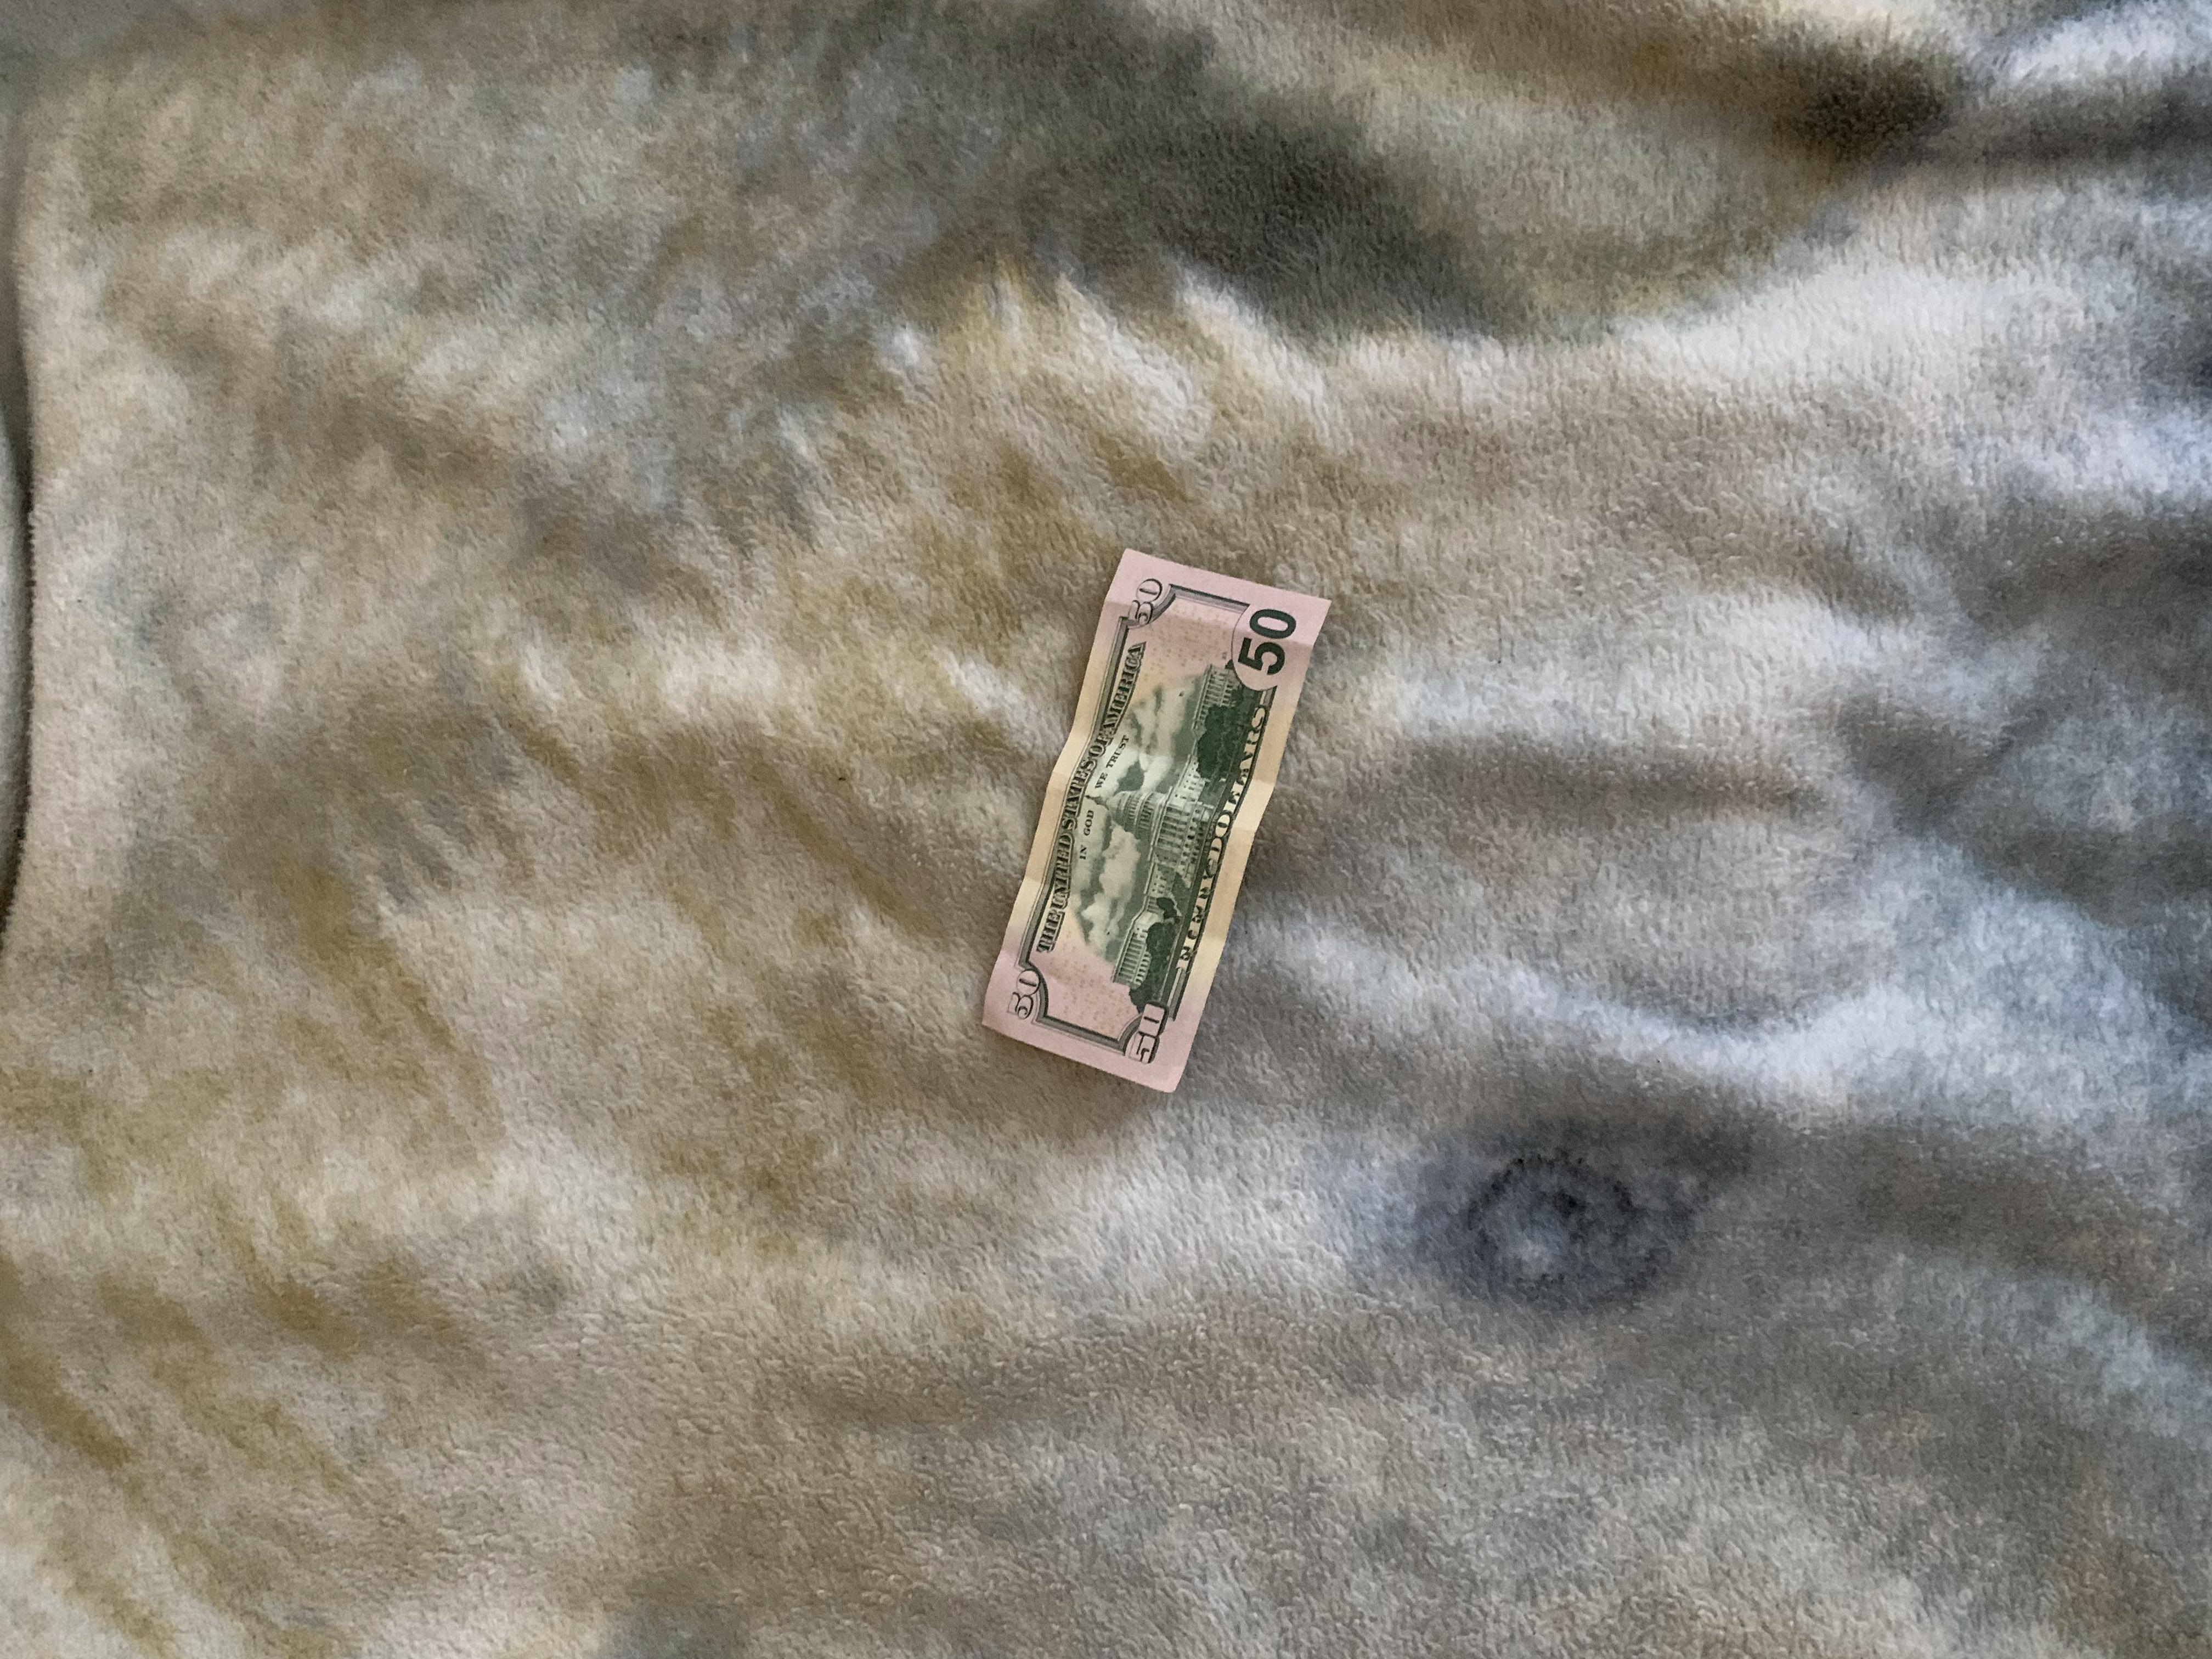FiftyBill: (979, 538, 1334, 1098)
